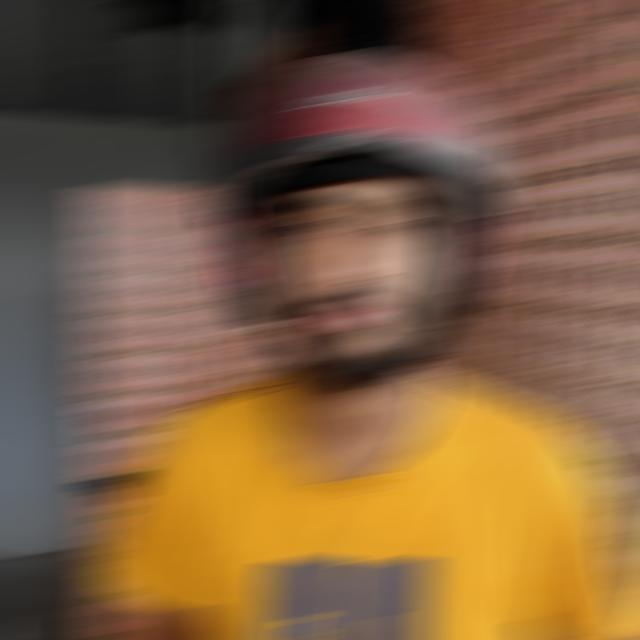With Helmet: (202, 51, 511, 337)
